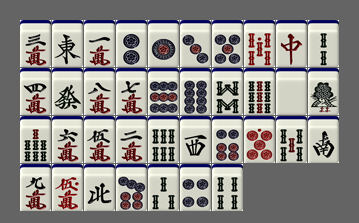0m: (52, 164, 83, 211)
0p: (244, 116, 275, 163)
0s: (244, 20, 275, 67)
1m: (84, 20, 115, 67)
1p: (148, 20, 179, 67)
1s: (308, 68, 339, 115)
1z: (52, 20, 83, 67)
2m: (116, 116, 147, 163)
2p: (116, 20, 147, 67)
2s: (308, 20, 339, 67)
2z: (308, 116, 339, 163)
3m: (20, 20, 51, 67)
3p: (180, 20, 211, 67)
3s: (148, 164, 179, 211)
3z: (180, 116, 211, 163)
4m: (20, 68, 51, 115)
4p: (180, 164, 211, 211)
4s: (212, 164, 243, 211)
4z: (84, 164, 115, 211)
5m: (84, 116, 115, 163)
5p: (212, 20, 243, 67)
5s: (276, 116, 307, 163)
5z: (276, 68, 307, 115)
6m: (52, 116, 83, 163)
6p: (212, 116, 243, 163)
6s: (148, 116, 179, 163)
6z: (52, 68, 83, 115)
7m: (116, 68, 147, 115)
7p: (116, 164, 147, 211)
7s: (20, 116, 51, 163)
7z: (276, 20, 307, 67)
8m: (84, 68, 115, 115)
8p: (180, 68, 211, 115)
8s: (212, 68, 243, 115)
9m: (20, 164, 51, 211)
9p: (148, 68, 179, 115)
9s: (244, 68, 275, 115)
